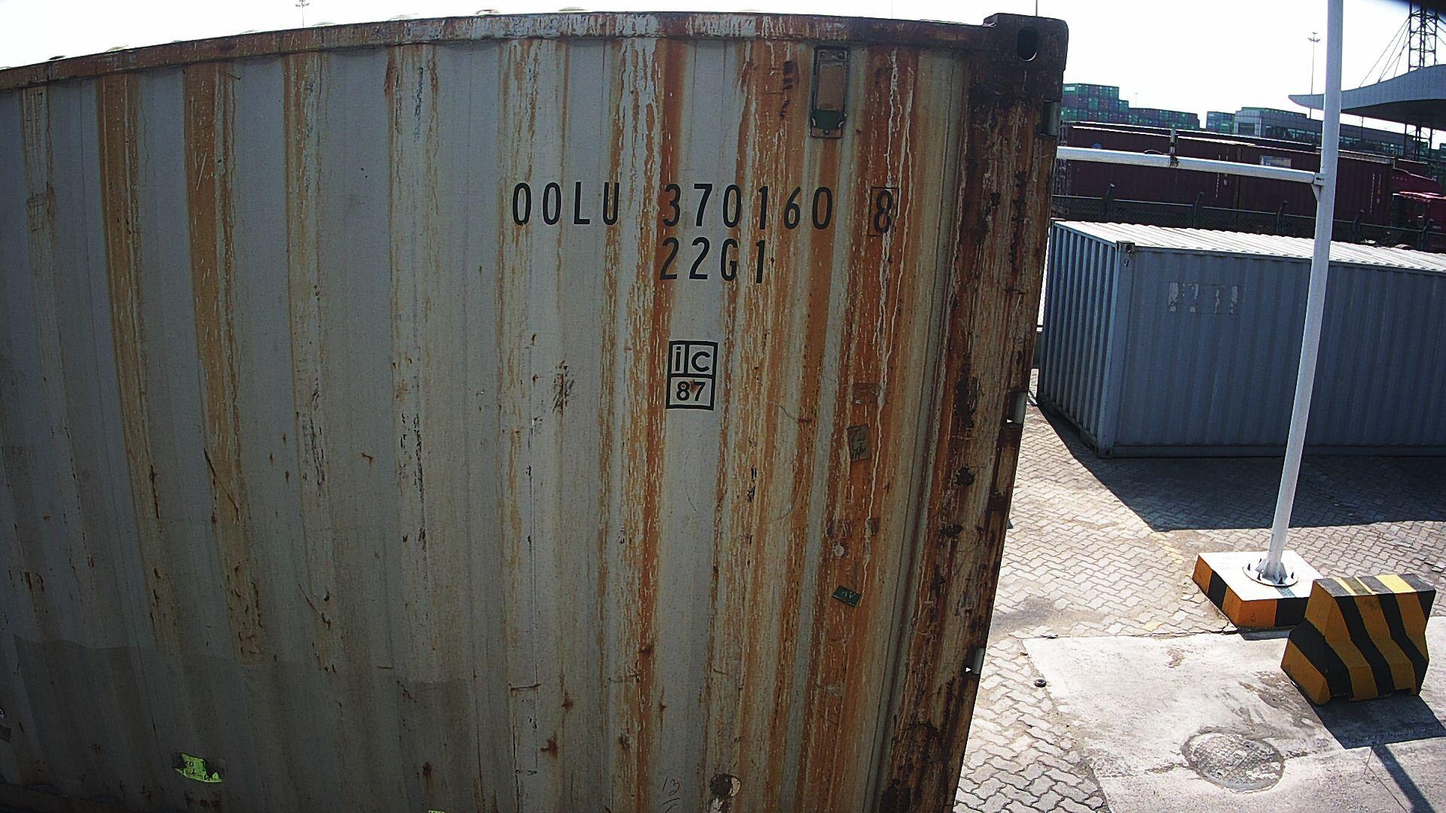container-numbers: (504, 176, 901, 235), (658, 235, 782, 285)
